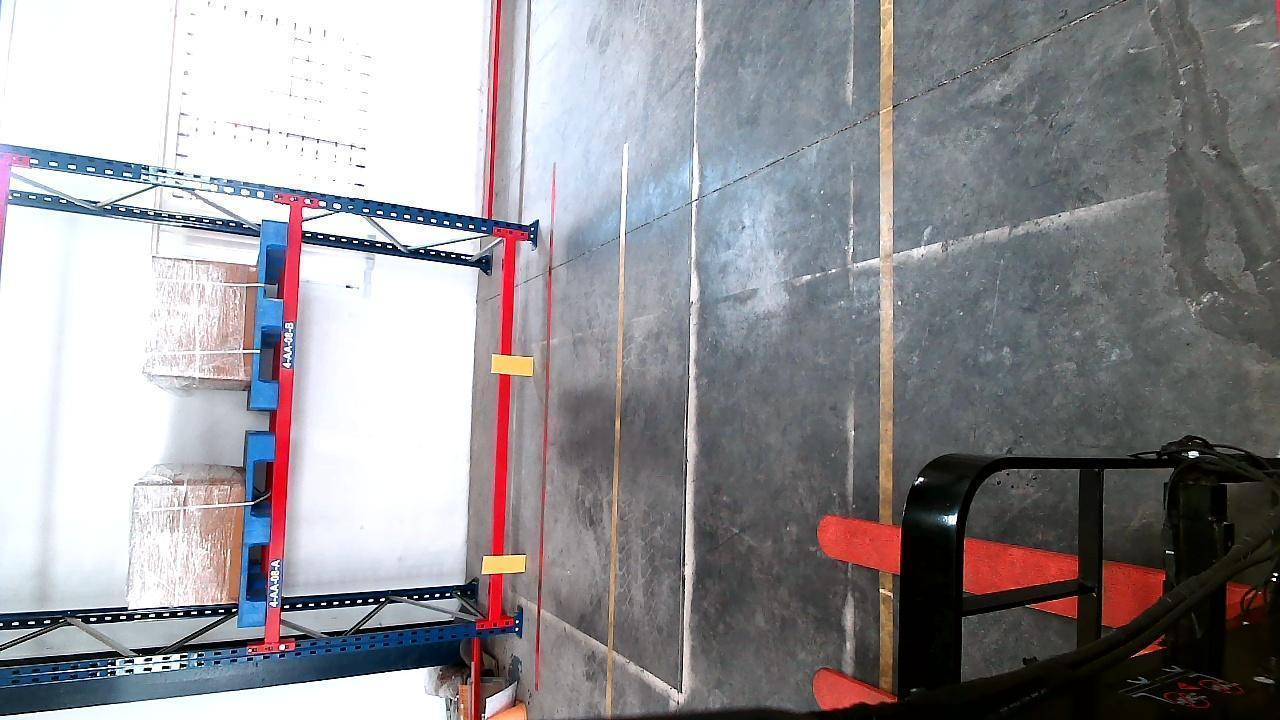red_line: (533, 161, 560, 677)
yellow_line: (874, 12, 897, 693), (602, 173, 628, 719)
